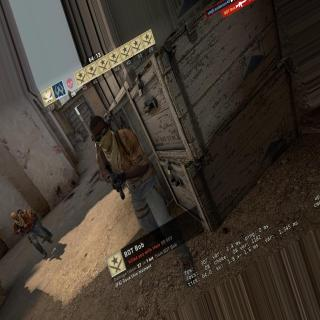T-Body: (89, 115, 197, 278), (11, 210, 52, 260), (88, 113, 94, 120)
T-Head: (88, 116, 110, 145), (11, 213, 19, 222), (17, 209, 24, 214), (90, 114, 90, 116)
